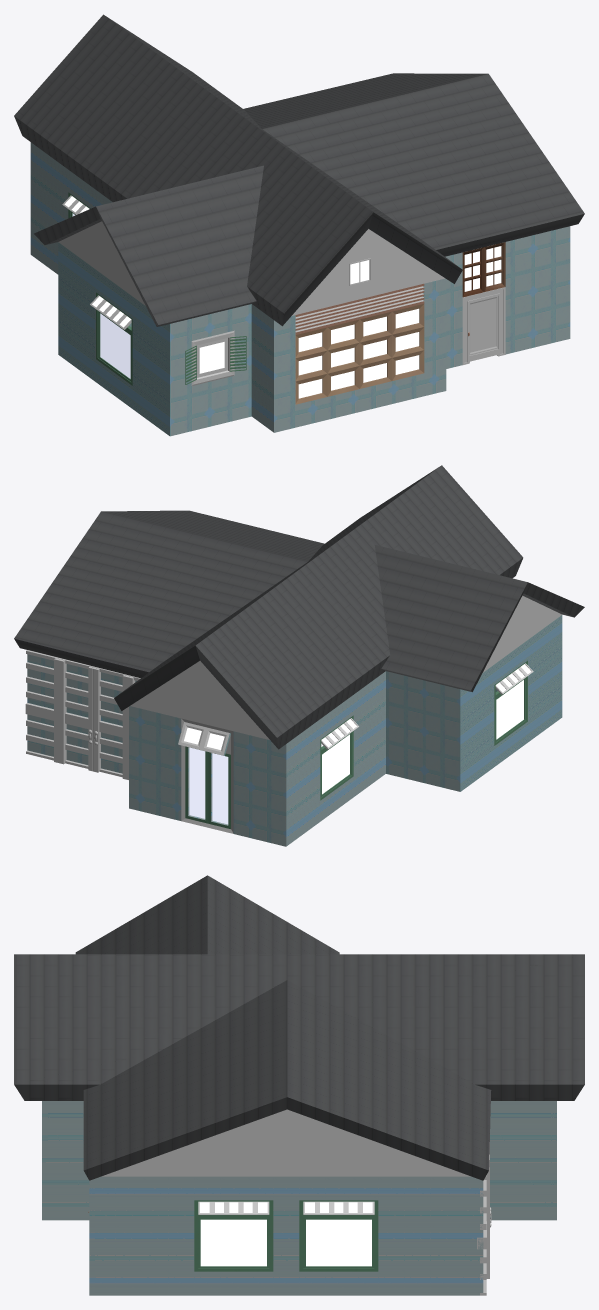
The model's file is 居民房.fbx.
3 renders of one model, top to bottom at view 1: azimuth 30°, elevation 25°; view 2: azimuth 150°, elevation 25°; view 3: azimuth 270°, elevation 25°, orthographic. The views are drawn at different scales.
Visible parts, largest first — view 1: 居民房; view 2: 居民房; view 3: 居民房.
Boxes of the visible parts, x1,y1,x2,y2 form: 居民房: (14, 14, 584, 436); 居民房: (14, 465, 584, 846); 居民房: (14, 875, 584, 1295).
Bounding box in the file's own units: 2000 × 932 × 2174.
